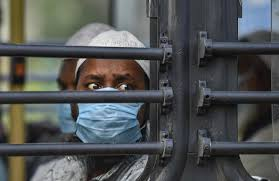mask: (71, 39, 154, 155), (51, 33, 77, 133)
